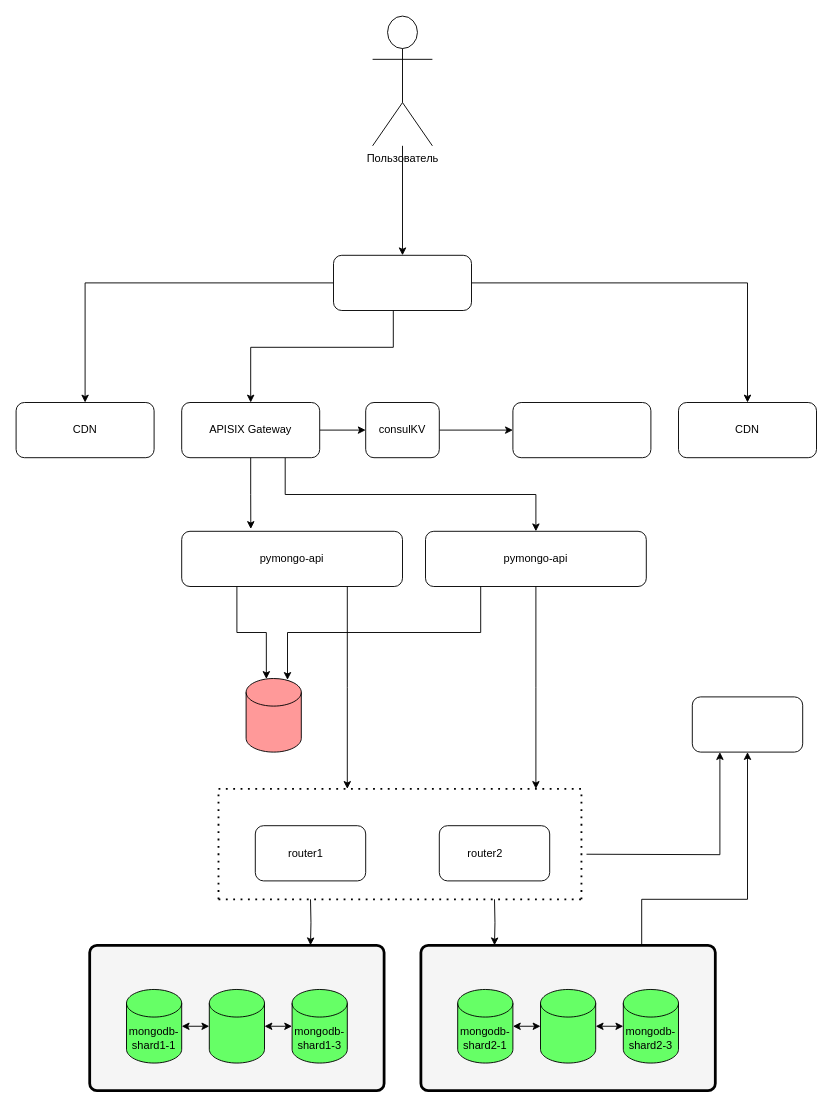
This 833x1108 diagram has some shape labels left out. The centre of each missing label's shape, as x and y in pixels:
"ConfigSrv" belongs at [747,724].
"consul" belongs at [581,430].
"mongodb-shard1-2" belongs at [236,1026].
"mongodb-shard2-2" belongs at [568,1026].
"React/Nginx" belongs at [402,282].
"Redis" belongs at [273,715].
